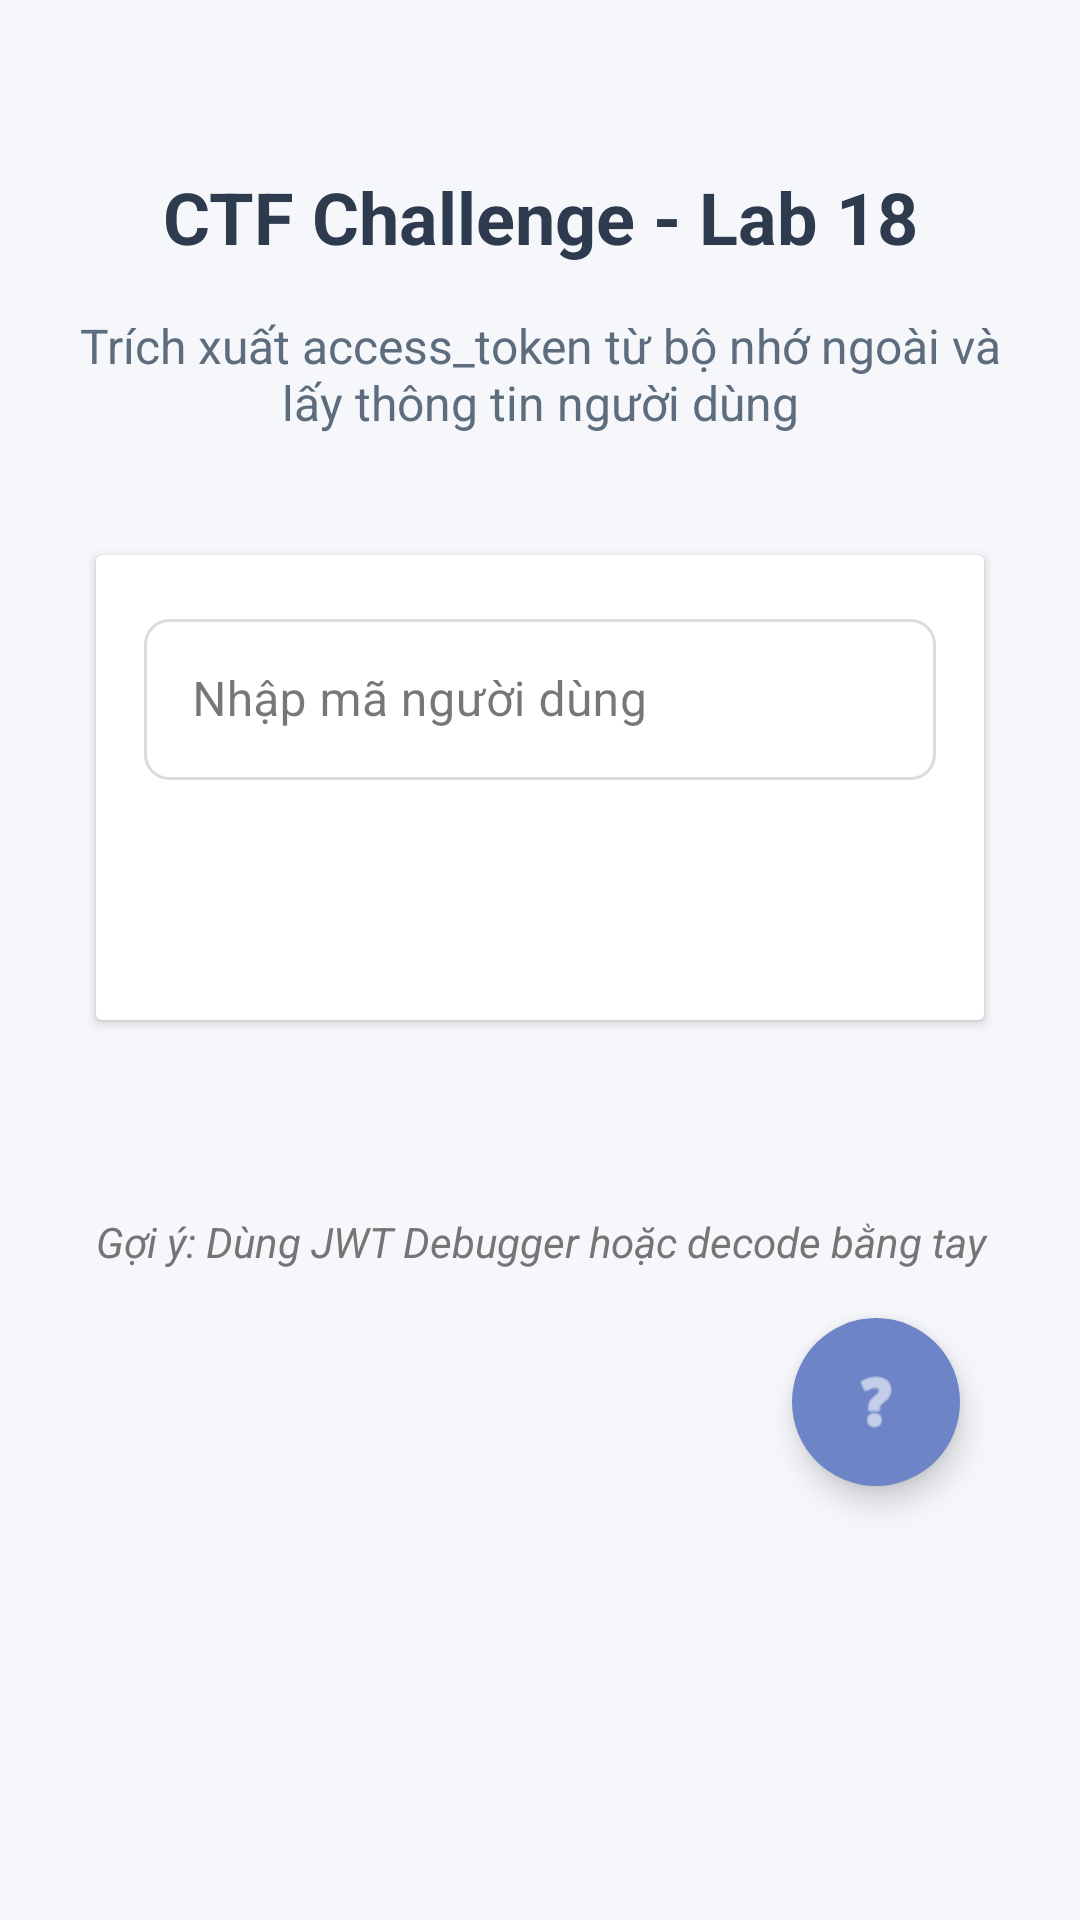

Screen size 1080*1920. Icon name, then its center in pixels as (x=x, y=y):
Help: (x=876, y=1402)
